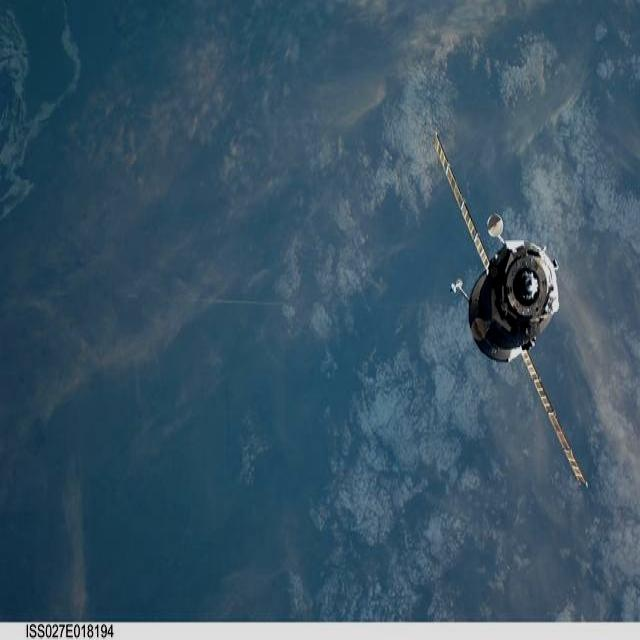medium_debris: (412, 113, 611, 506)
